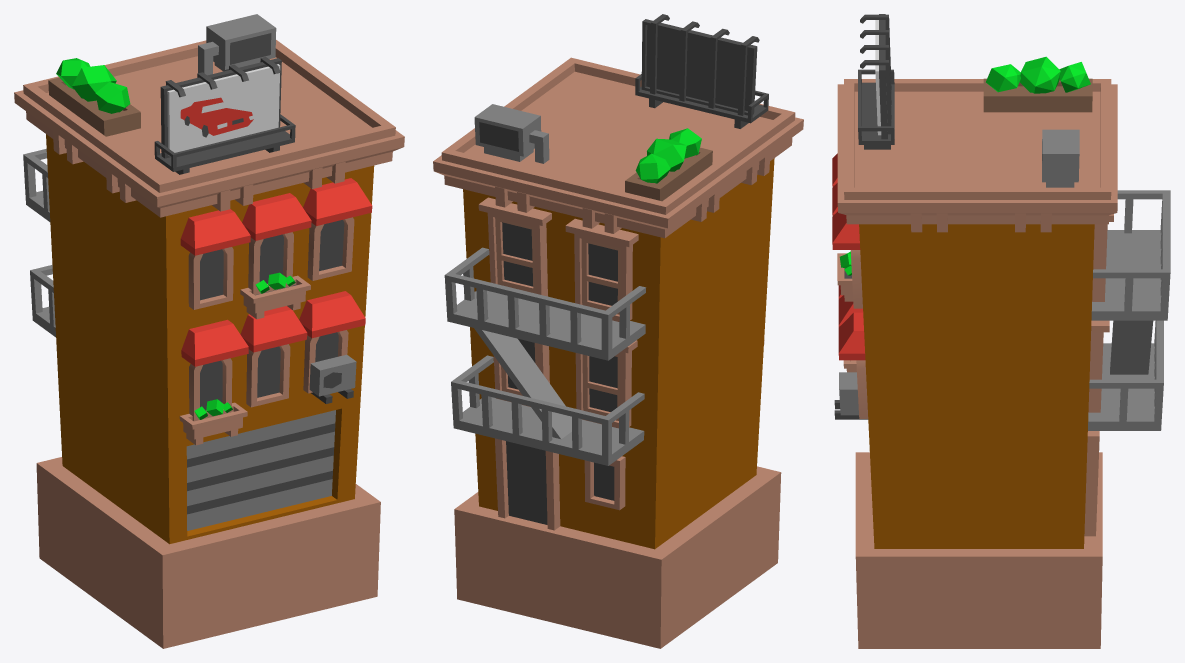
File: Appartments_1V2.fbx
3 views of the same model, side by side, from view 1: azimuth 30°, elevation 25°; view 2: azimuth 150°, elevation 25°; view 3: azimuth 270°, elevation 25° (orthographic). The views are drawn at different scales.
Parts seen in each view (by area): view 1: SM_Bld_Apartments_01; view 2: SM_Bld_Apartments_01; view 3: SM_Bld_Apartments_01.
Part boxes in pixels (box(x1,y1,x2,y2)): SM_Bld_Apartments_01: box(14, 14, 404, 648); SM_Bld_Apartments_01: box(433, 14, 803, 648); SM_Bld_Apartments_01: box(832, 14, 1170, 648).
Size of the model in its own units: 109 by 232 by 132.
